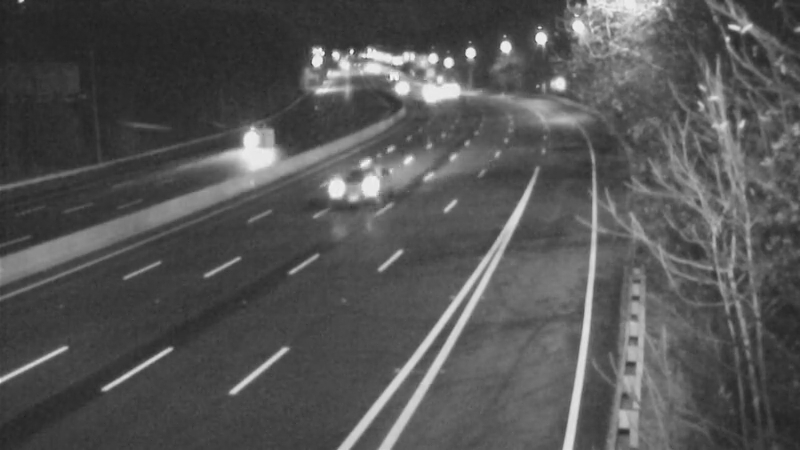vehicle: (318, 151, 398, 231), (375, 60, 425, 110), (400, 65, 450, 115), (428, 64, 478, 114), (405, 68, 455, 118), (223, 116, 273, 166)
